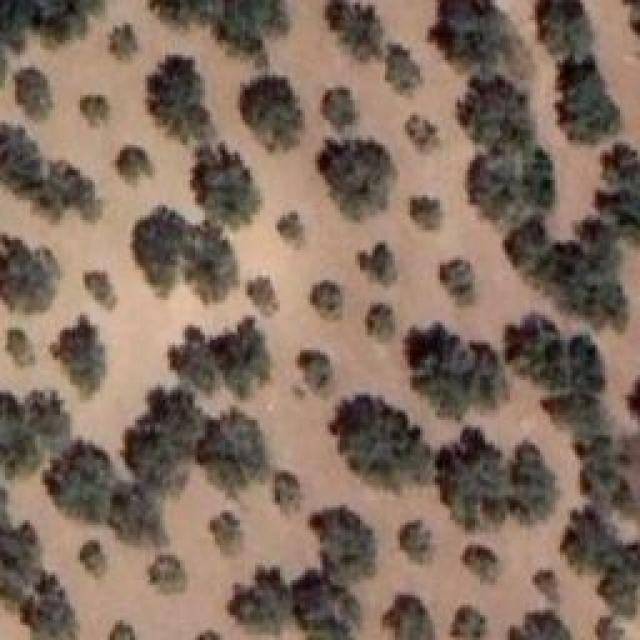Tree: (405, 323, 508, 420), (0, 123, 101, 220), (330, 397, 433, 492), (123, 388, 206, 496), (150, 0, 289, 64), (562, 505, 640, 615), (505, 313, 604, 394), (430, 0, 530, 78), (465, 148, 553, 224), (318, 140, 397, 220), (440, 435, 506, 530), (0, 390, 70, 477), (458, 75, 537, 150), (45, 440, 116, 523), (193, 142, 262, 227), (200, 410, 267, 496), (148, 55, 213, 143), (553, 60, 622, 142), (310, 505, 378, 586), (239, 74, 303, 151), (210, 318, 271, 398), (293, 570, 362, 640), (0, 0, 95, 50), (0, 235, 59, 315), (50, 315, 105, 398), (595, 142, 640, 242), (133, 208, 184, 292), (228, 568, 291, 634), (575, 438, 624, 519), (105, 488, 169, 546), (17, 577, 74, 640), (330, 0, 383, 61), (175, 327, 219, 398), (503, 215, 549, 273), (383, 595, 434, 640), (15, 68, 54, 121), (585, 283, 629, 328), (385, 42, 421, 92), (357, 243, 395, 286), (323, 88, 359, 132), (148, 555, 187, 595), (210, 512, 244, 557), (520, 610, 571, 640), (400, 520, 433, 565), (115, 145, 154, 183), (298, 350, 332, 390), (248, 277, 281, 317), (405, 115, 438, 154), (440, 263, 470, 304), (465, 545, 498, 582), (85, 273, 117, 310), (8, 327, 37, 367), (450, 608, 485, 640), (275, 473, 301, 515), (310, 285, 340, 320), (110, 25, 139, 61), (80, 540, 108, 577), (367, 305, 395, 341), (277, 214, 305, 248), (80, 95, 110, 126), (533, 570, 559, 605), (412, 198, 440, 230), (597, 617, 622, 640), (110, 620, 138, 640)
